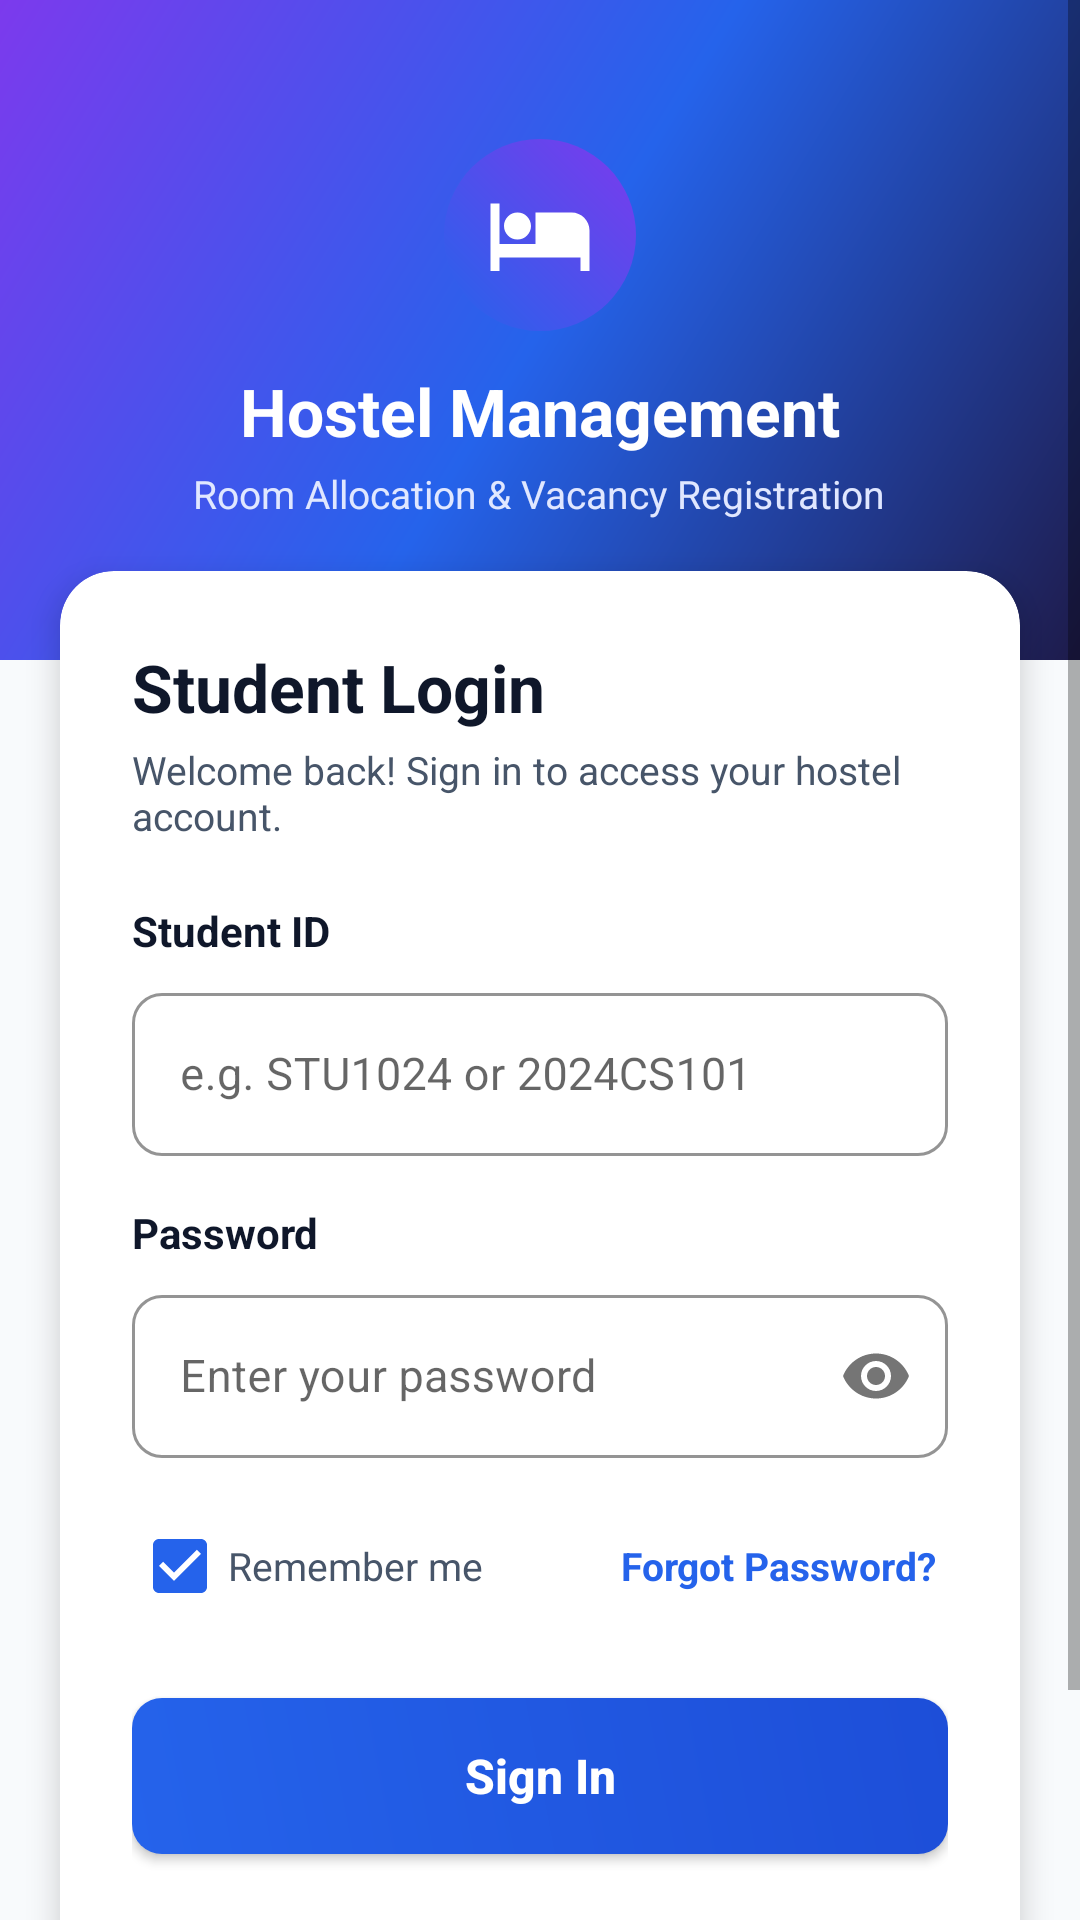

Icons on this 1080px×1920px Android screen, each with its box as (x1, y1, x2, y2):
hotel: (477, 139, 636, 298)
